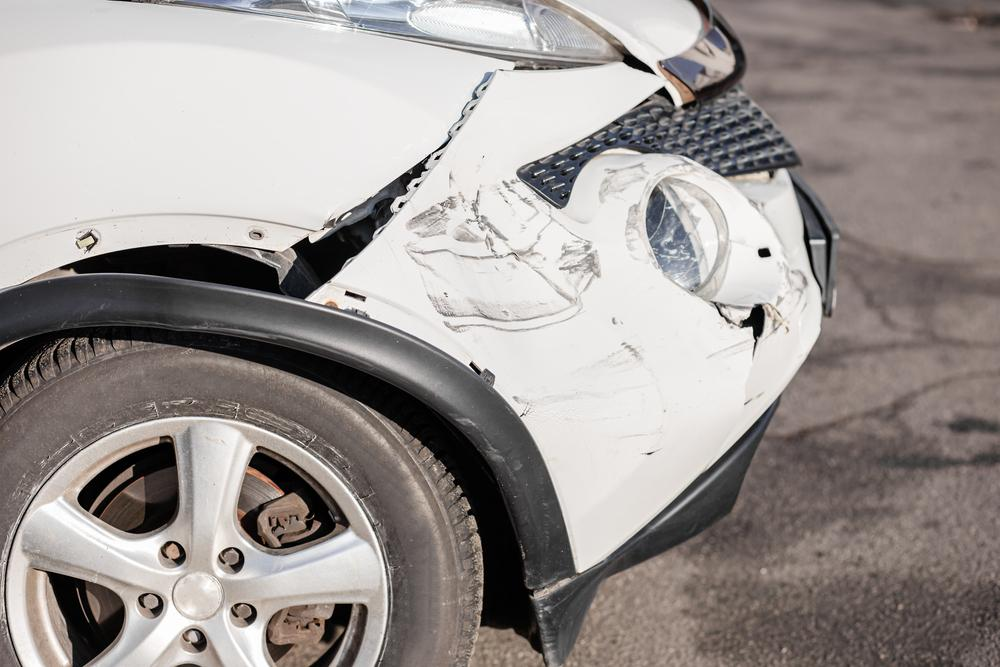crack: (710, 300, 765, 363)
scratch: (404, 184, 599, 331), (599, 149, 652, 268)
